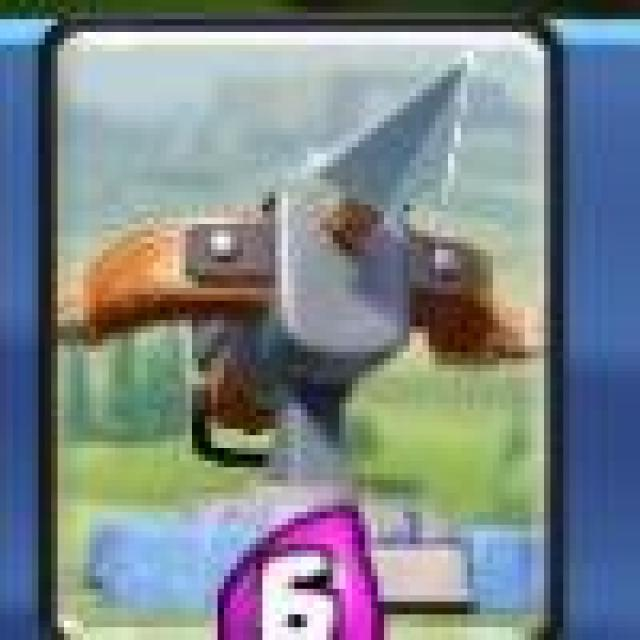X_Bow: (40, 20, 562, 640)
